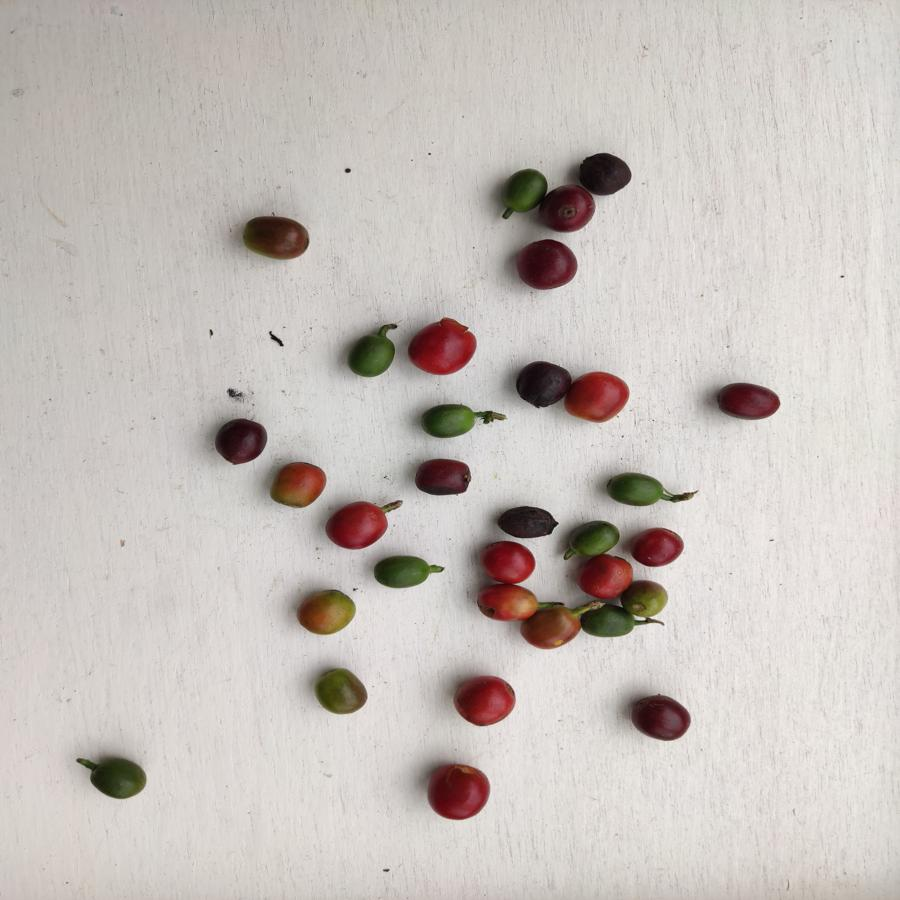Inmaduro: (87, 750, 148, 802), (374, 551, 444, 596), (603, 467, 668, 515), (418, 399, 479, 444), (344, 330, 395, 380), (581, 602, 635, 648), (499, 164, 544, 218), (565, 520, 620, 551)
Maduro: (407, 315, 476, 377), (424, 758, 491, 821), (451, 676, 518, 728), (567, 368, 630, 423), (326, 502, 387, 551), (480, 540, 537, 584), (580, 554, 631, 598)
Pinton: (239, 212, 314, 266), (299, 588, 354, 638), (273, 461, 326, 512), (316, 665, 369, 714), (525, 603, 574, 651), (475, 588, 538, 619), (624, 578, 670, 620)
Sobremaduro: (512, 236, 578, 295), (628, 691, 696, 742), (509, 358, 568, 408), (712, 379, 780, 421), (541, 185, 597, 234), (215, 415, 268, 465), (413, 456, 476, 496), (500, 500, 558, 542), (580, 150, 634, 195), (634, 523, 684, 569)
